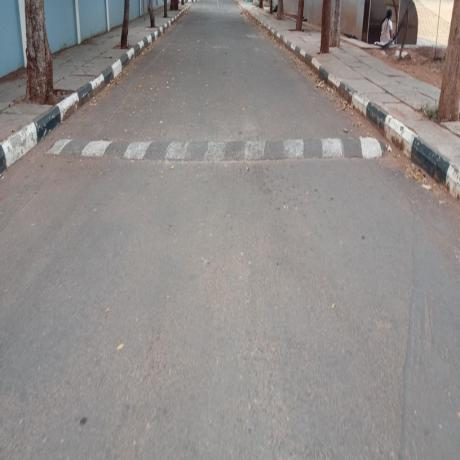Speed Bump: (45, 133, 386, 160)
